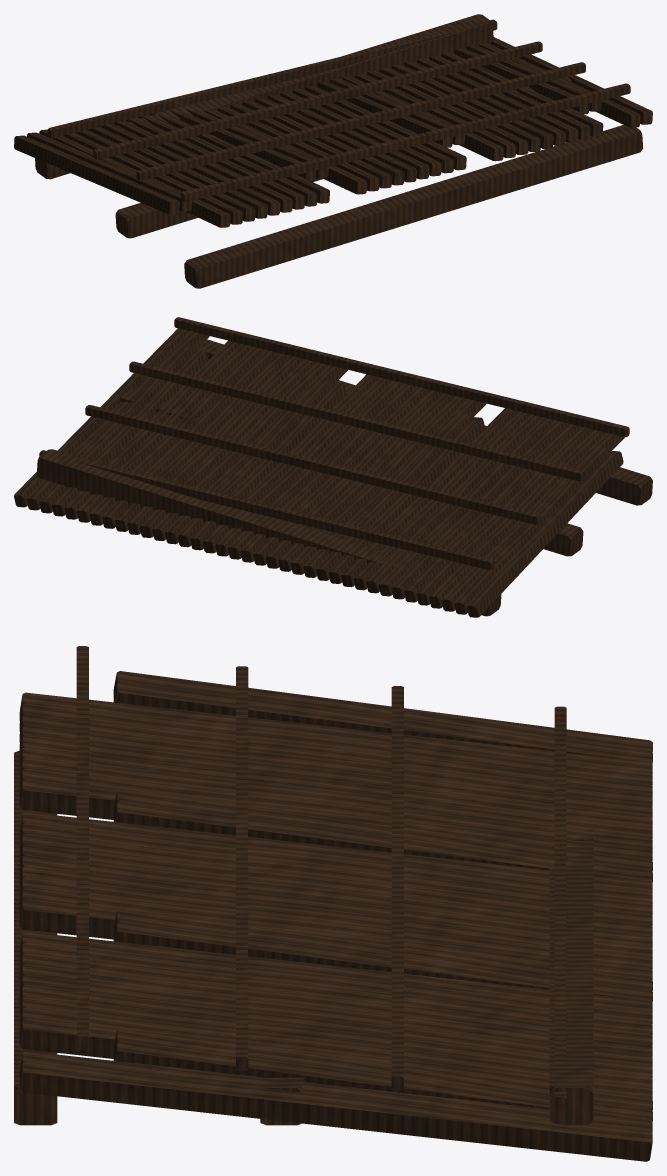
The model's file is cataclysm_fen_roof-lod0.gltf.
3 views of the same model, one above another, from view 1: azimuth 30°, elevation 25°; view 2: azimuth 150°, elevation 25°; view 3: azimuth 270°, elevation 25° (orthographic). The views are drawn at different scales.
Visible parts, largest first — view 1: cataclysm_fen_roof LOD0 cataclysm_fen_roof; view 2: cataclysm_fen_roof LOD0 cataclysm_fen_roof; view 3: cataclysm_fen_roof LOD0 cataclysm_fen_roof.
Boxes of the visible parts, left/top/right/bottom form: cataclysm_fen_roof LOD0 cataclysm_fen_roof: left=14, top=14, right=652, bottom=288; cataclysm_fen_roof LOD0 cataclysm_fen_roof: left=14, top=317, right=652, bottom=617; cataclysm_fen_roof LOD0 cataclysm_fen_roof: left=14, top=646, right=652, bottom=1161.
Bounding box in the file's own units: 2.65 × 0.4434 × 1.77.
Materials: 1 (1 with a texture image).
